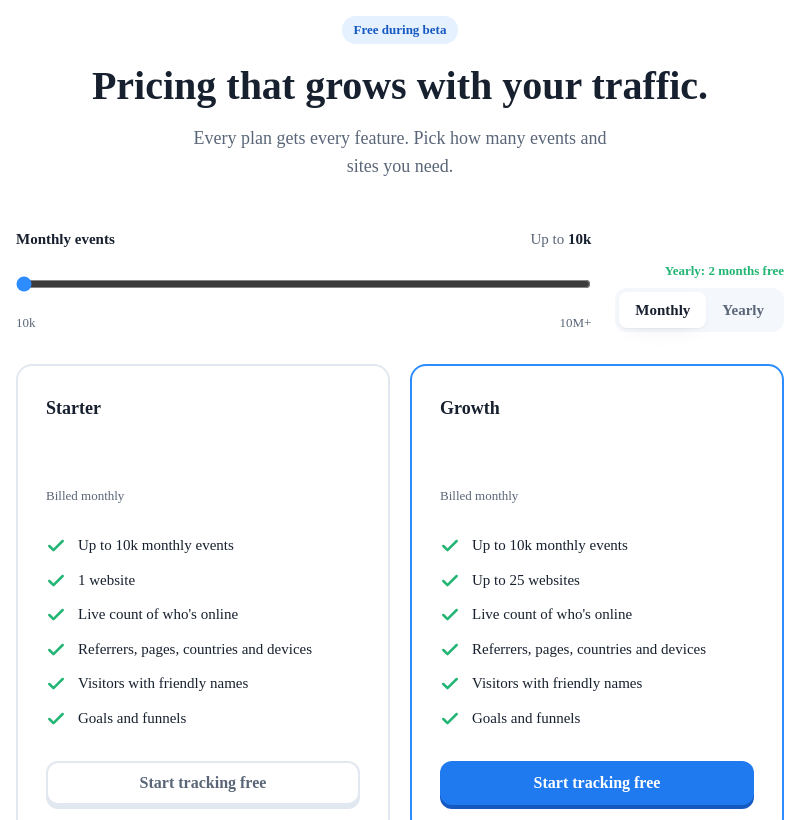
Scenario: Pricing › asks to talk past 10M events instead of showing a price
The image size is (801, 820).
Set the slider labelled "Monthly events Up to 10k" to "8" at (583, 284), box [16,262,591,306]
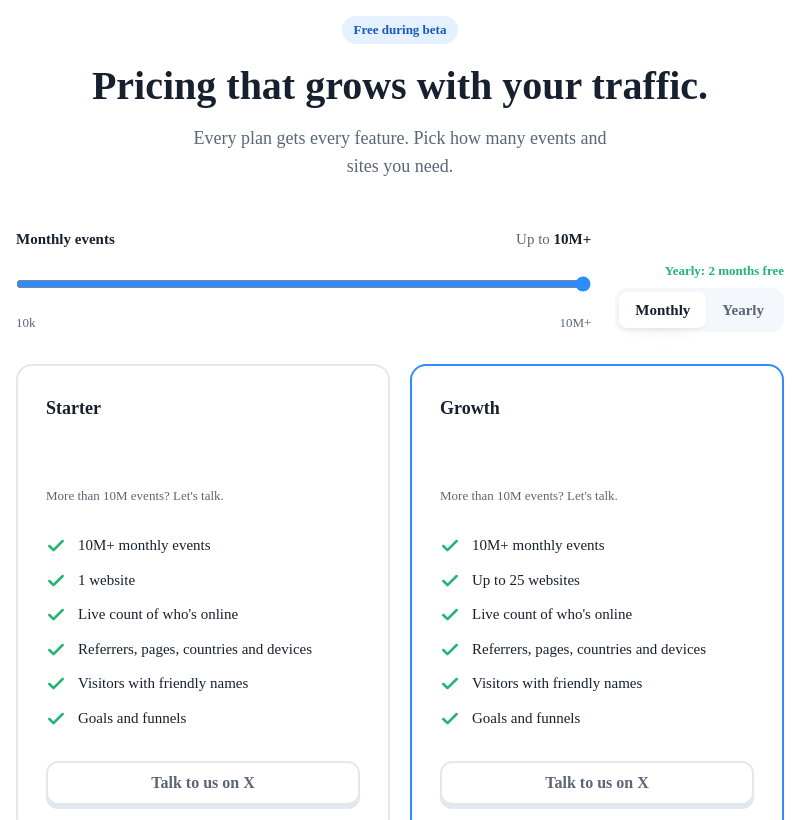
Check: the link "Talk to us on X" below "1 website" is shown, box [46,761,360,805]
